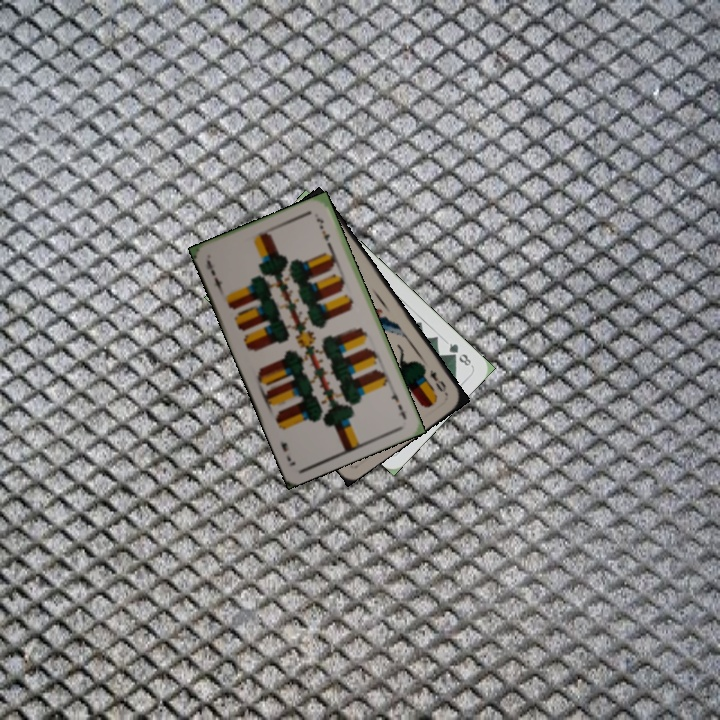E7: (202, 256, 225, 295), (386, 384, 409, 422)
EO: (425, 366, 449, 397)
G8: (444, 339, 474, 369)
